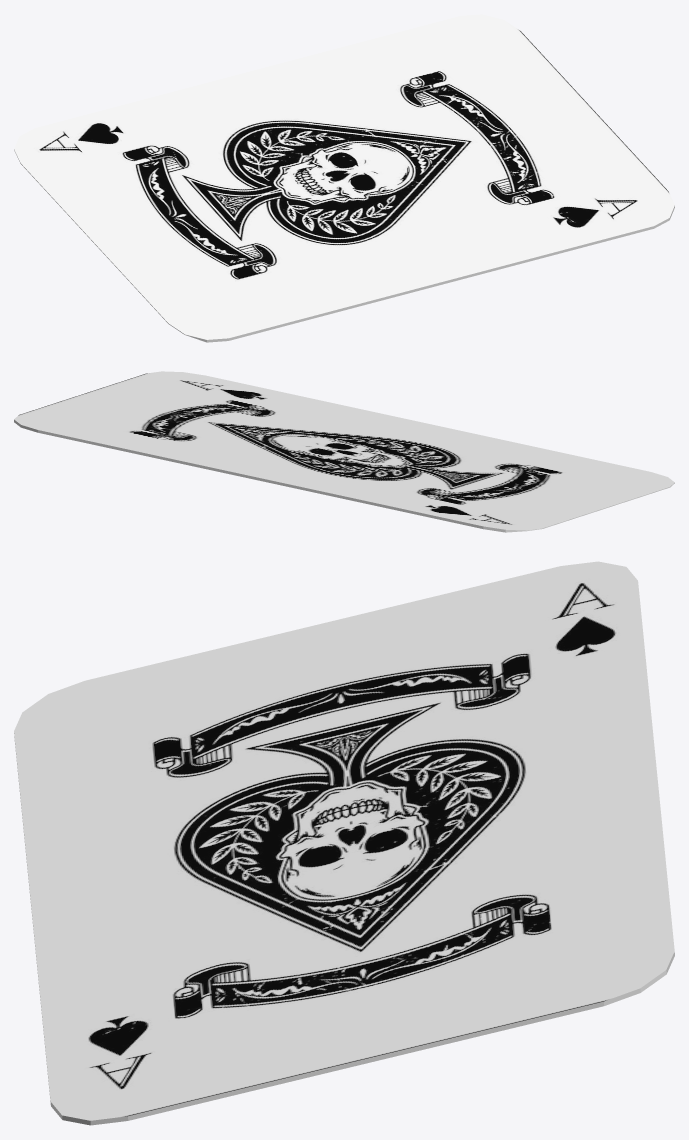
Rendered from CardRamp.fbx.
3 views of the same model, one above another, from view 1: azimuth 30°, elevation 25°; view 2: azimuth 150°, elevation 25°; view 3: azimuth 270°, elevation 25° (orthographic). The views are drawn at different scales.
Visible parts, largest first — view 1: CardRamp; view 2: CardRamp; view 3: CardRamp.
Boxes of the visible parts, x1,y1,x2,y2 form: CardRamp: (14,14,674,342); CardRamp: (14,371,674,532); CardRamp: (14,561,674,1125).
Bounding box in the file's own units: 9.85 × 1.54 × 6.26.
Materials: 1 (1 with a texture image).
